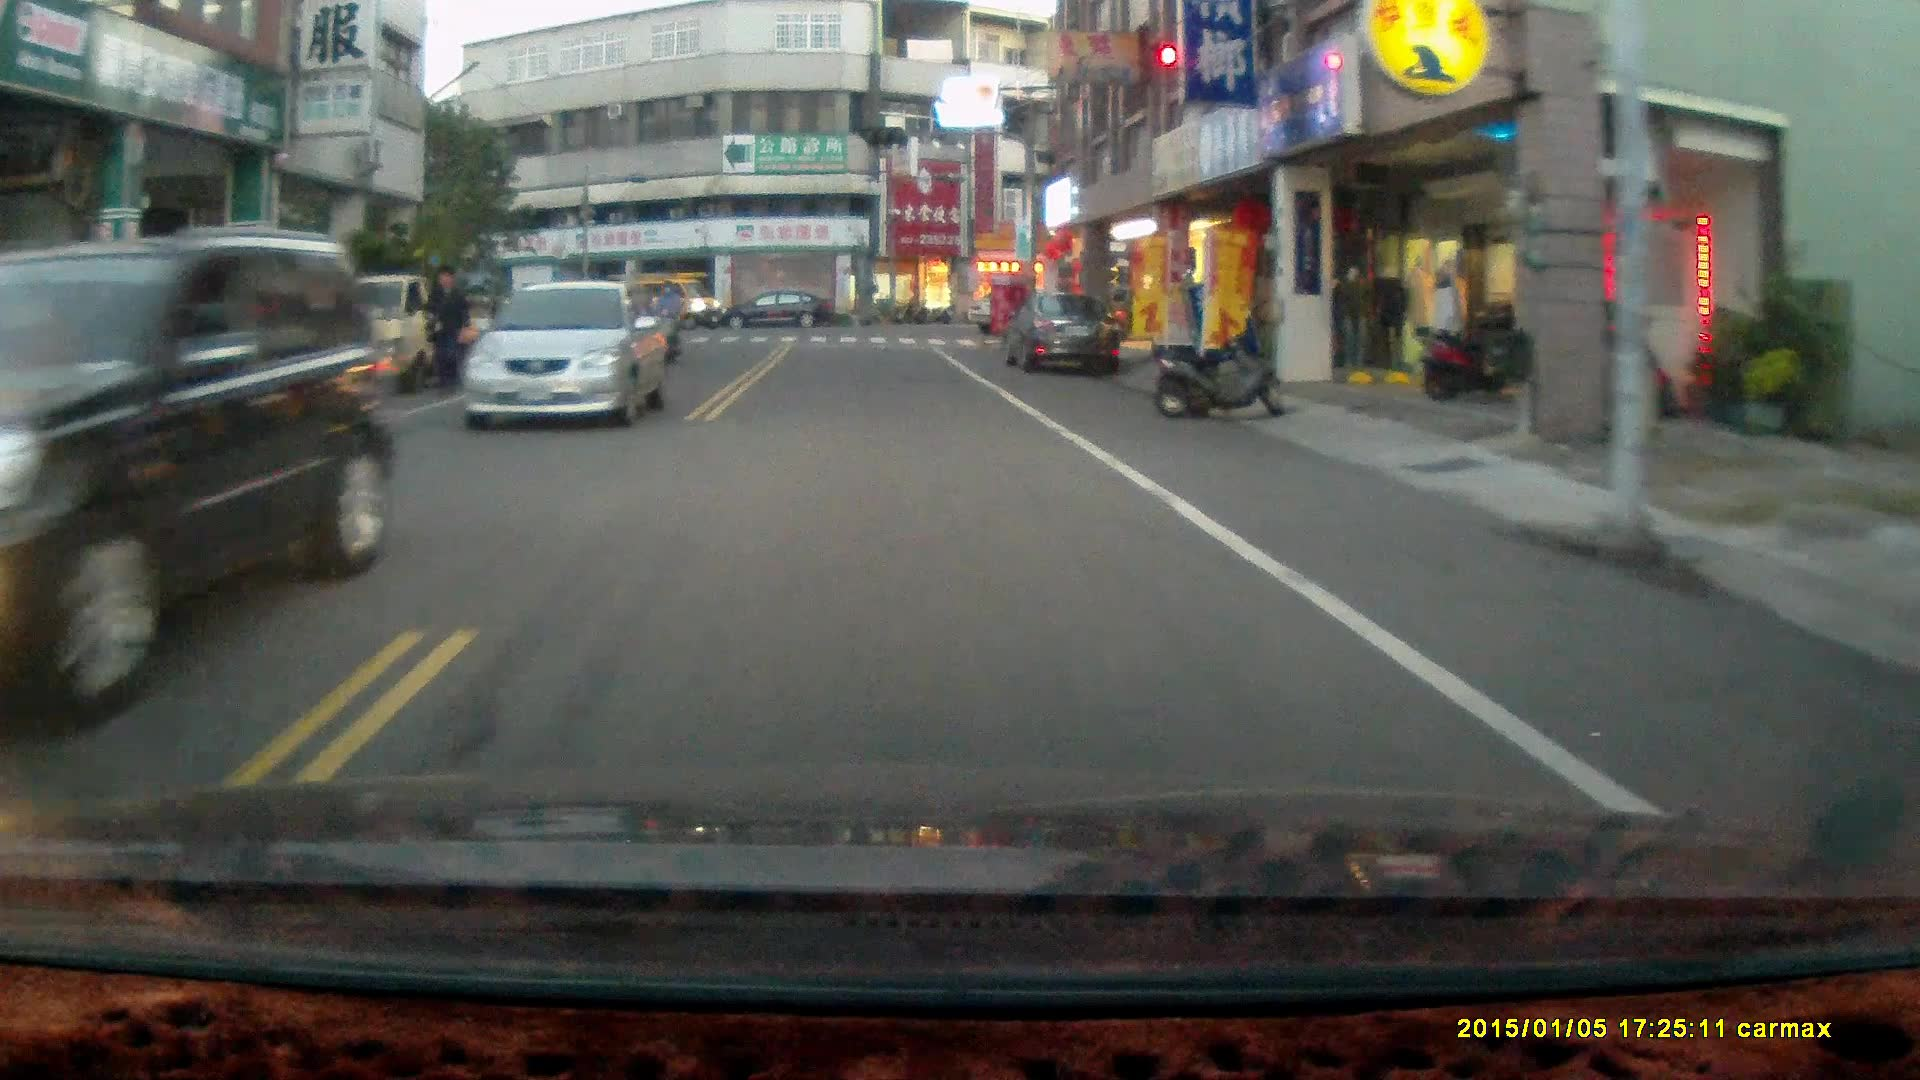pedestrian: (422, 261, 473, 396)
rider: (651, 280, 688, 371)
vehicle: (1, 236, 394, 708), (465, 281, 675, 432), (1002, 289, 1123, 381), (609, 275, 730, 336), (719, 291, 837, 336)
